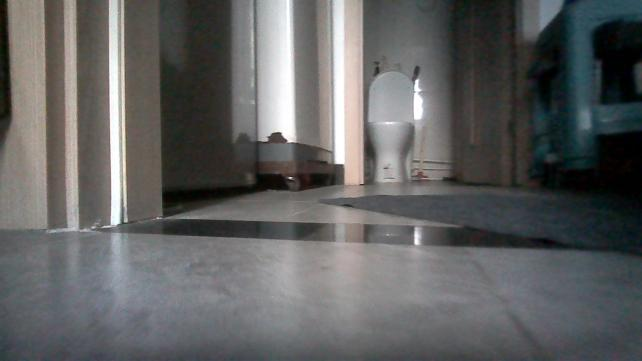toilet: (367, 70, 423, 185)
